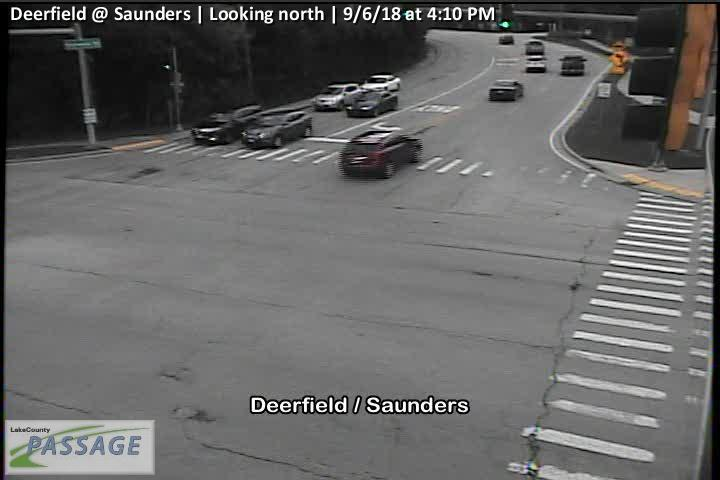SUV: (340, 131, 423, 178), (192, 102, 263, 147), (241, 106, 313, 148), (313, 82, 361, 111), (559, 55, 587, 75), (525, 54, 546, 72), (526, 40, 544, 54), (498, 35, 514, 45)
Sedan: (346, 91, 398, 119), (489, 79, 524, 102), (361, 74, 401, 93)
